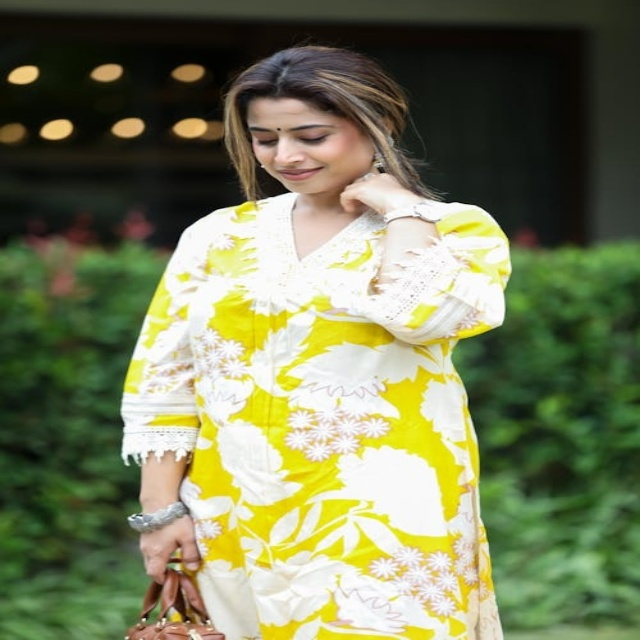Sin_gafas: (244, 119, 338, 147)
Sin_guantes: (337, 170, 421, 214)
Sin_mascara: (268, 164, 328, 194)
